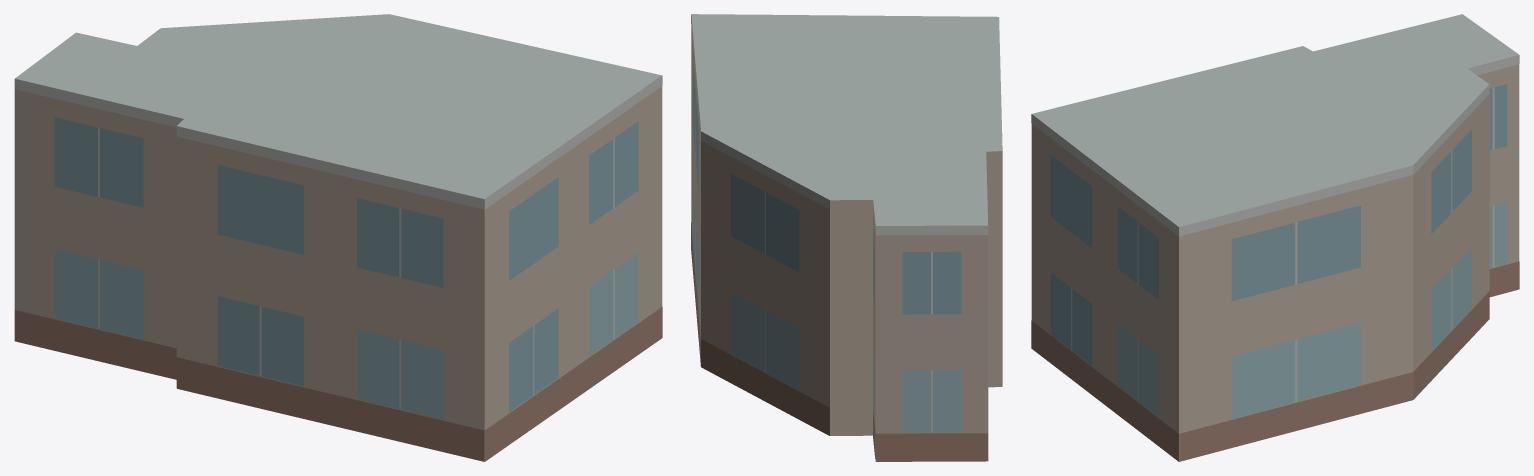
The model's file is survey-upis-32530636.glb.
3 renders of one model, left to right at view 1: azimuth 30°, elevation 25°; view 2: azimuth 150°, elevation 25°; view 3: azimuth 270°, elevation 25°, orthographic. The views are drawn at different scales.
Visible parts, largest first — view 1: survey-upis-32530636.tmp; view 2: survey-upis-32530636.tmp; view 3: survey-upis-32530636.tmp.
Part boxes in pixels (box(x1,y1,x2,y2)): survey-upis-32530636.tmp: box(14, 14, 662, 461); survey-upis-32530636.tmp: box(691, 14, 1002, 461); survey-upis-32530636.tmp: box(1031, 14, 1519, 461).
Bounding box in the file's own units: 11.9 × 6.1 × 11.51.
